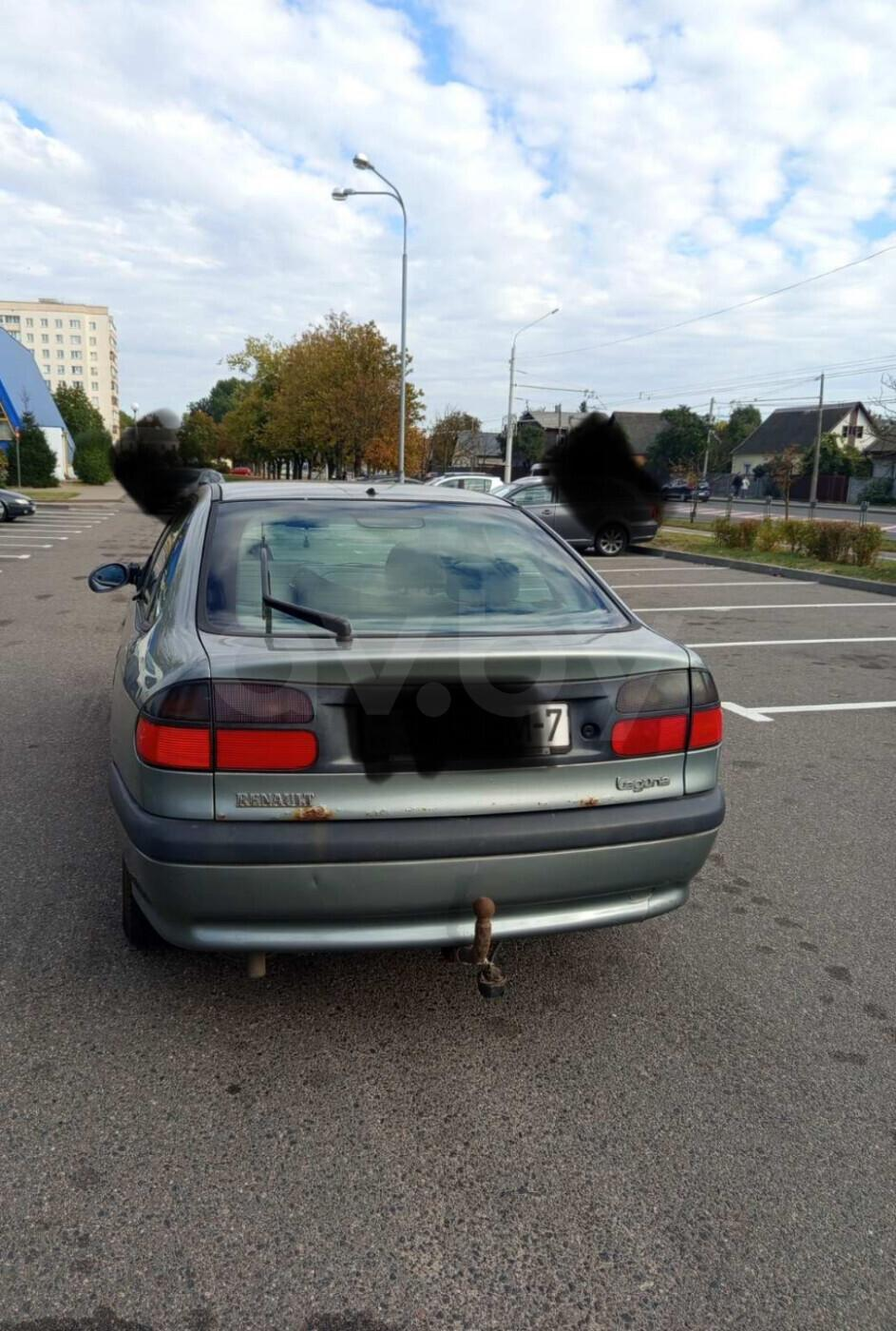Lahuna_1993-1999: (82, 470, 728, 981)
